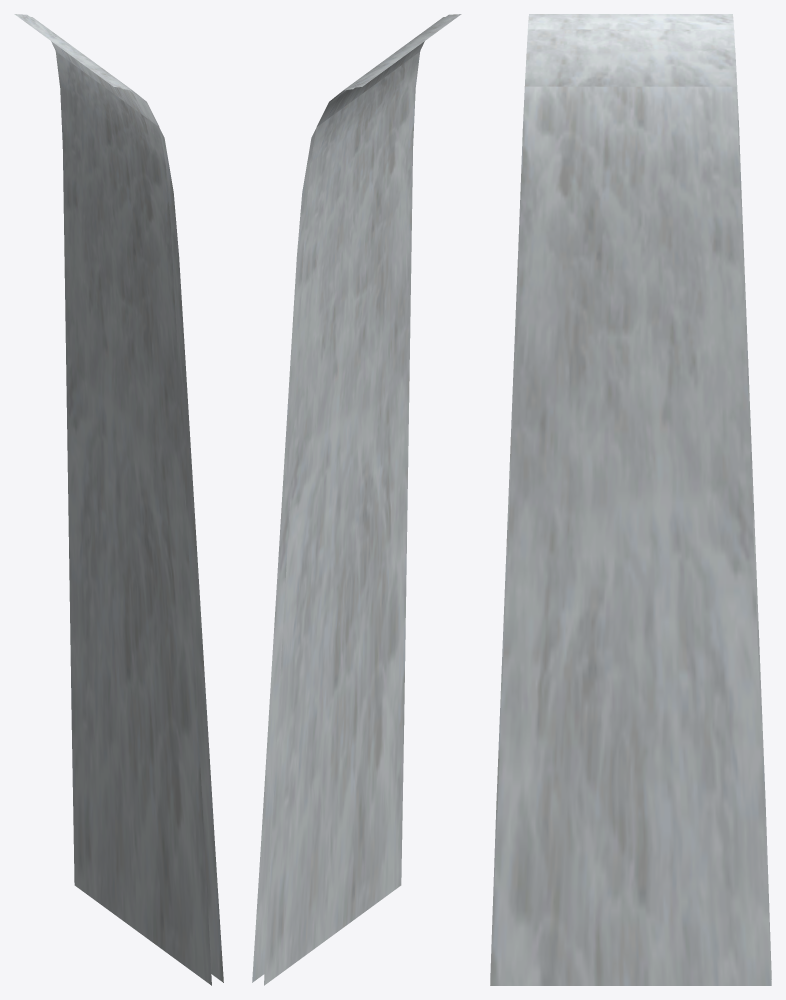
File: elwynntallwaterfall01.obj
3 renders of one model, left to right at view 1: azimuth 30°, elevation 25°; view 2: azimuth 150°, elevation 25°; view 3: azimuth 270°, elevation 25°, orthographic. The views are drawn at different scales.
Parts seen in each view (by area): view 1: Geoset1, Geoset0; view 2: Geoset1, Geoset0; view 3: Geoset0, Geoset1.
Part boxes in pixels (bbox=[...]): Geoset1: bbox=[30, 16, 211, 985]; Geoset0: bbox=[14, 14, 223, 982]; Geoset1: bbox=[264, 17, 444, 985]; Geoset0: bbox=[252, 14, 461, 982]; Geoset0: bbox=[490, 14, 771, 985]; Geoset1: bbox=[490, 29, 771, 979].
Bounding box in the file's own units: 9.89 × 93.67 × 25.81.
Materials: 1 (1 with a texture image).
